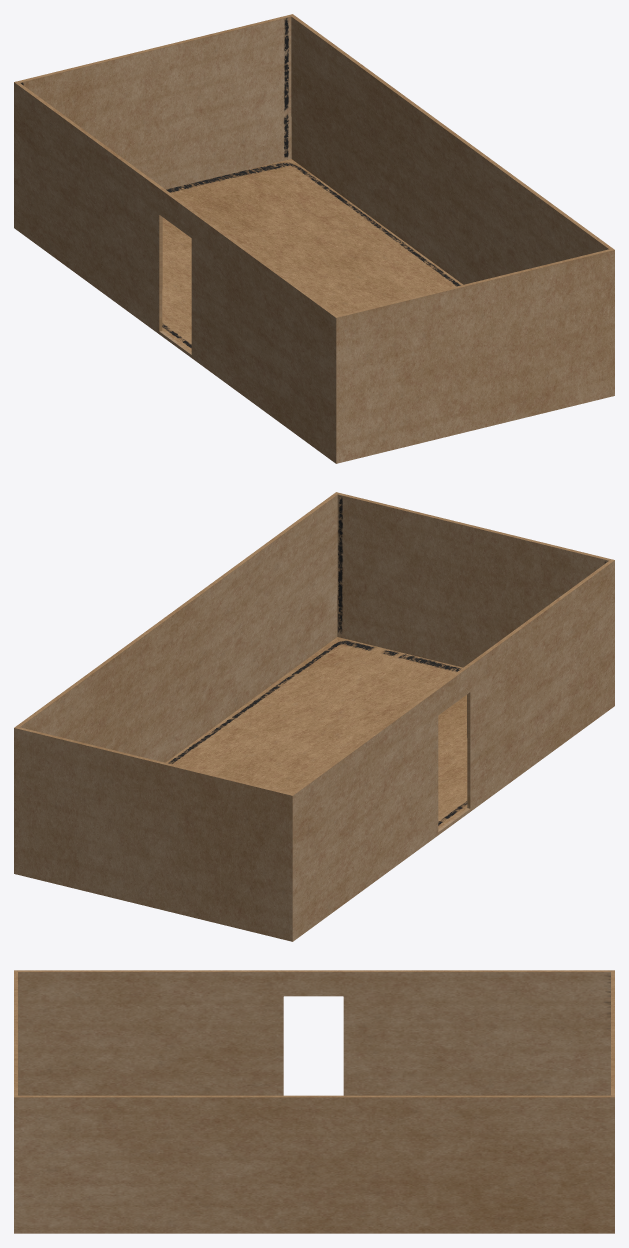
The model's file is 20s_Room3.fbx.
3 renders of one model, top to bottom at view 1: azimuth 30°, elevation 25°; view 2: azimuth 150°, elevation 25°; view 3: azimuth 270°, elevation 25°, orthographic. The views are drawn at different scales.
Parts seen in each view (by area): view 1: Room_level3; view 2: Room_level3; view 3: Room_level3.
Part boxes in pixels (x1,y1,x2,y2): Room_level3: (14, 14, 614, 463); Room_level3: (14, 492, 614, 941); Room_level3: (14, 970, 614, 1233).
Bounding box in the file's own units: 999 × 500 × 2000.
1 material, 1 textured.
